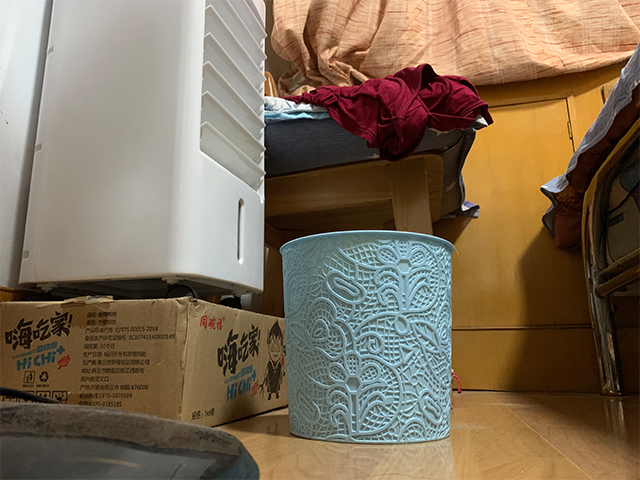trashcan: (278, 228, 456, 445)
